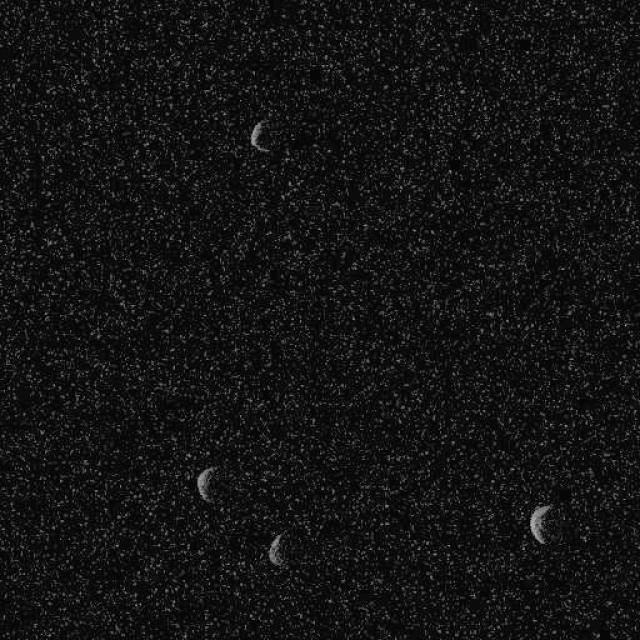D2: (528, 503, 552, 545), (195, 465, 219, 504), (266, 530, 286, 568), (249, 119, 271, 152)
